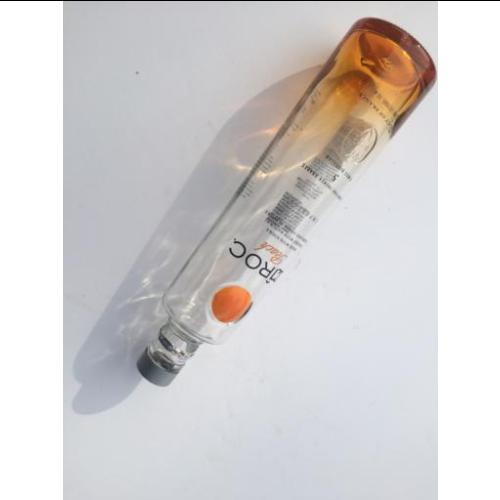glass: (124, 18, 438, 385)
